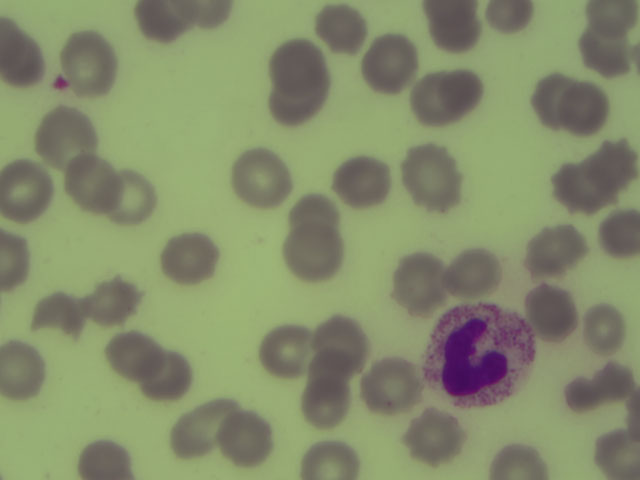Platelets: (52, 76, 69, 92)
RBC: (307, 315, 378, 371), (364, 352, 421, 417), (403, 146, 460, 209), (553, 164, 621, 214), (573, 29, 629, 88), (405, 409, 465, 464), (62, 36, 119, 93), (233, 149, 292, 204), (269, 44, 326, 98), (36, 111, 95, 163), (62, 156, 116, 212), (524, 288, 578, 342), (176, 400, 224, 456), (398, 255, 442, 316), (296, 440, 362, 480), (368, 36, 414, 93), (5, 162, 50, 220), (165, 234, 216, 284), (532, 228, 582, 279), (582, 301, 625, 358), (290, 228, 339, 278), (220, 415, 273, 461), (261, 87, 323, 126), (300, 379, 349, 428), (336, 156, 387, 203), (5, 340, 43, 402), (455, 252, 503, 301), (561, 84, 608, 134), (110, 334, 163, 377), (586, 145, 640, 187), (597, 212, 640, 264), (132, 2, 179, 47), (593, 435, 640, 480), (318, 8, 366, 52), (87, 284, 138, 325), (432, 14, 481, 55), (151, 355, 193, 402), (265, 330, 307, 377), (78, 444, 135, 478), (36, 292, 80, 336), (495, 447, 552, 480), (490, 1, 536, 40), (1, 230, 32, 287), (442, 71, 483, 114), (531, 75, 566, 125), (169, 1, 229, 30), (291, 198, 340, 233), (118, 170, 151, 220), (423, 2, 478, 29), (416, 73, 447, 120), (310, 357, 356, 387), (19, 35, 47, 84), (2, 17, 23, 78), (558, 379, 593, 413), (596, 366, 632, 398), (590, 3, 635, 28), (624, 42, 640, 71), (629, 399, 640, 435)
WBC: (424, 300, 534, 407)
